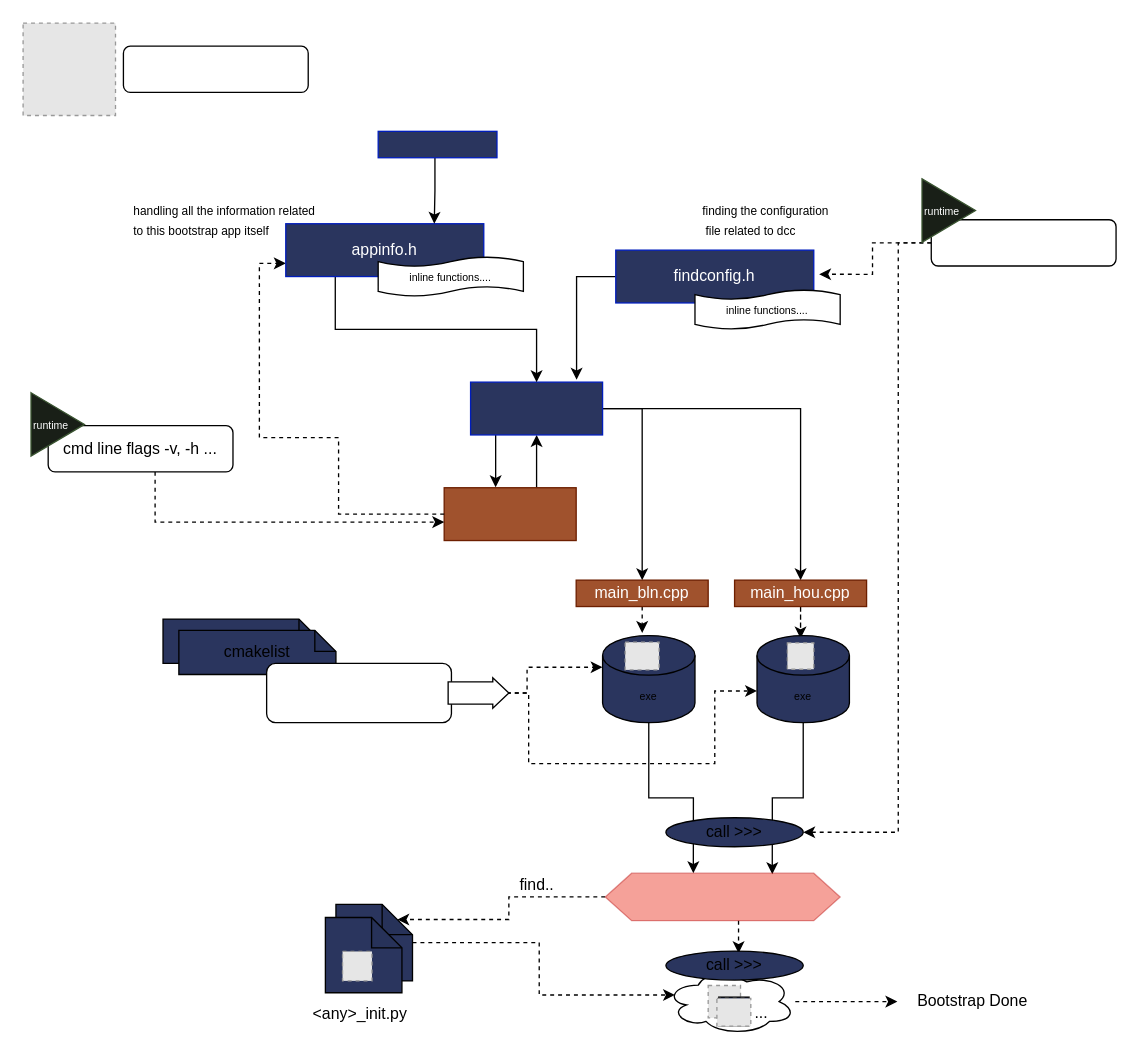
This 1139x1059 diagram has some shape labels left out. Grey dashed boxes stand in for pictures. Each missing label, with the box of its shape:
compile: (447, 676, 509, 708)
install, compile passing versions and config...: (265, 662, 451, 723)
main.cpp: (443, 486, 576, 541)
main.h: (469, 381, 603, 435)
Peach Bootstrap: (122, 45, 308, 92)
startup.pconfig: (930, 218, 1116, 266)
startup_dcc_init.sh: (604, 872, 840, 921)
types...: (377, 130, 497, 158)
